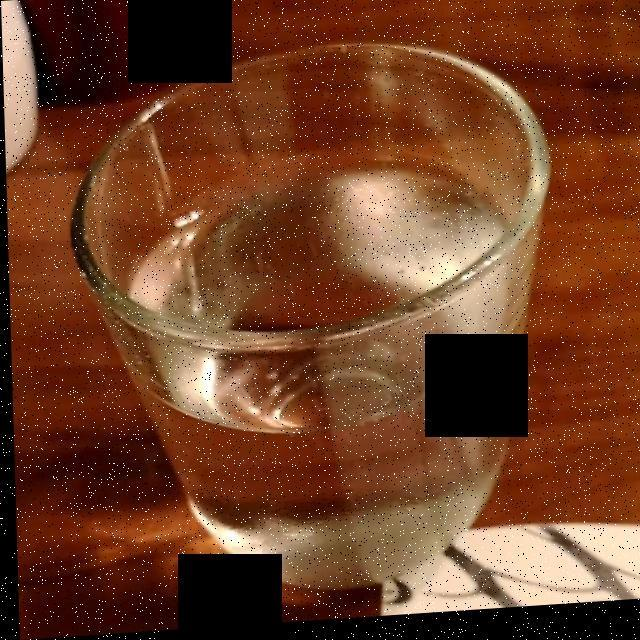water: (133, 179, 534, 606), (125, 171, 514, 582)
